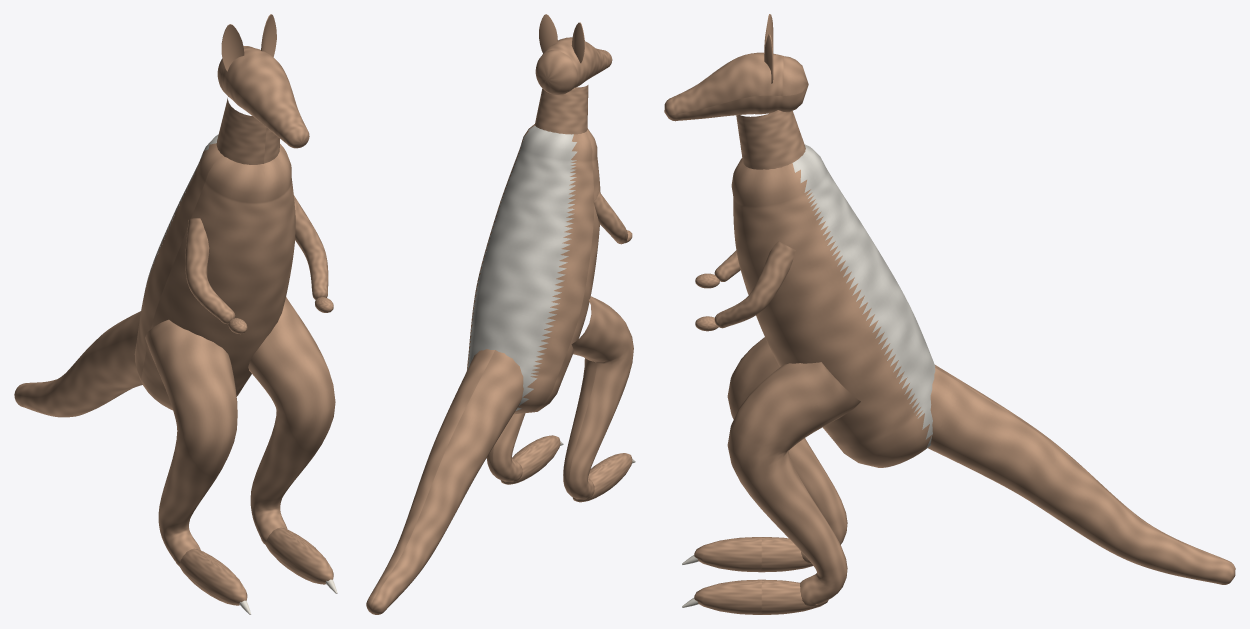
The model's file is other-red-kangaroo.glb.
3 renders of one model, left to right at view 1: azimuth 30°, elevation 25°; view 2: azimuth 150°, elevation 25°; view 3: azimuth 270°, elevation 25°, orthographic. The views are drawn at different scales.
Visible parts, largest first — view 1: red-kangaroo; view 2: red-kangaroo; view 3: red-kangaroo.
Part boxes in pixels (box(x1,y1,x2,y2)): red-kangaroo: box(14, 14, 337, 614); red-kangaroo: box(366, 14, 635, 614); red-kangaroo: box(664, 14, 1235, 614).
Bounding box in the file's own units: 0.4895 × 1.73 × 1.58.
5 materials, 2 textured.
